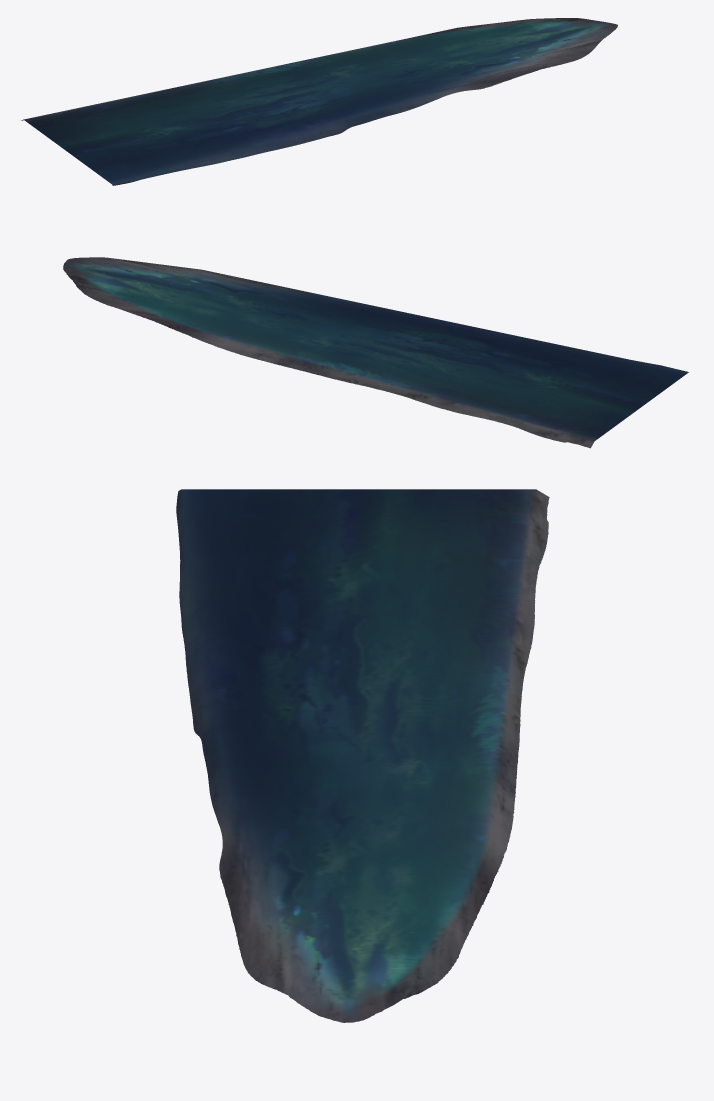
The model's file is HuBian_NightTan_fbx.FBX.
3 views of the same model, one above another, from view 1: azimuth 30°, elevation 25°; view 2: azimuth 150°, elevation 25°; view 3: azimuth 270°, elevation 25° (orthographic). The views are drawn at different scales.
Parts seen in each view (by area): view 1: Object059; view 2: Object059; view 3: Object059.
Part boxes in pixels (x1,y1,x2,y2): Object059: [21, 18, 617, 185]; Object059: [63, 257, 688, 448]; Object059: [176, 489, 549, 1022].
Bounding box in the file's own units: 10.88 × 0.1958 × 3.46.
1 material, 1 textured.
